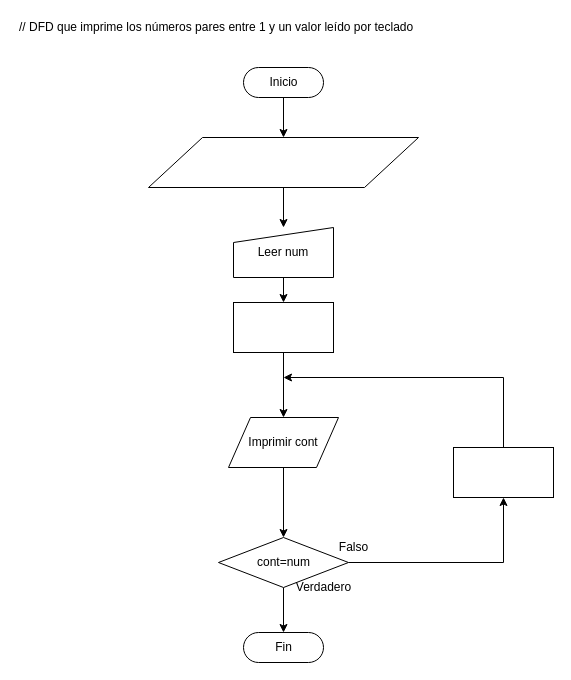
This 571x680 diagram has some shape labels left out. Each missing label, with the centre of its shape:
cont<-2: pixel 283 327
cont<-cont+2: pixel 503 472
Imprimir "Introduzca un valor": pixel 283 162
